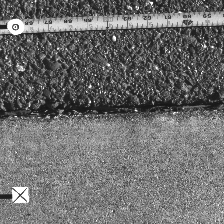circle: (7, 19, 25, 36)
crack: (1, 98, 223, 122)
square: (11, 187, 28, 203)
